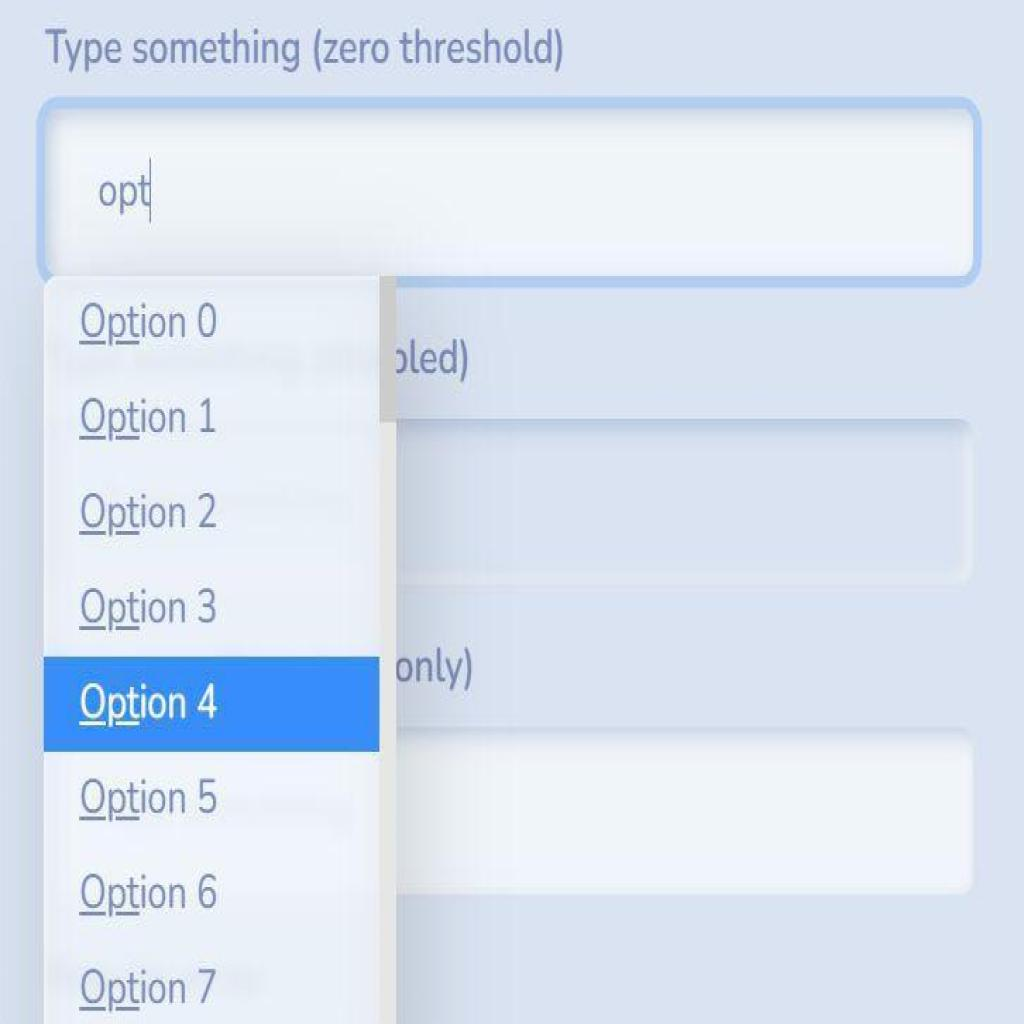button: (42, 657, 380, 750)
input: (49, 110, 972, 282)
label: (35, 19, 577, 76)
